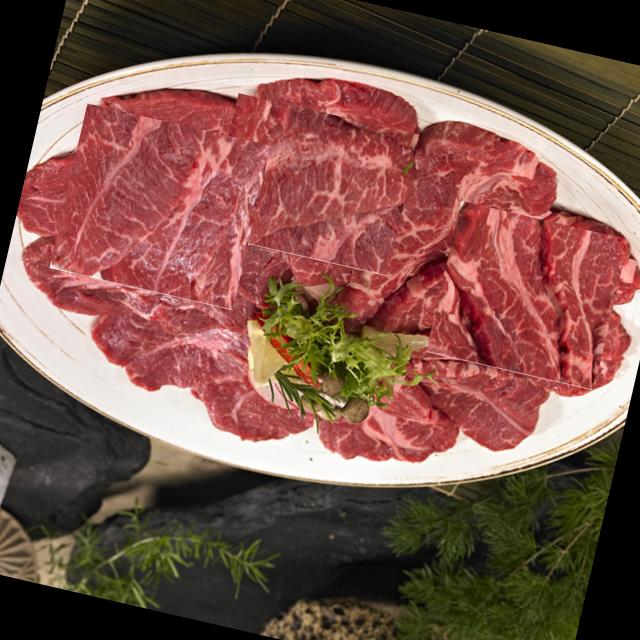beef: (52, 99, 266, 313), (212, 84, 412, 284), (428, 197, 624, 393)
